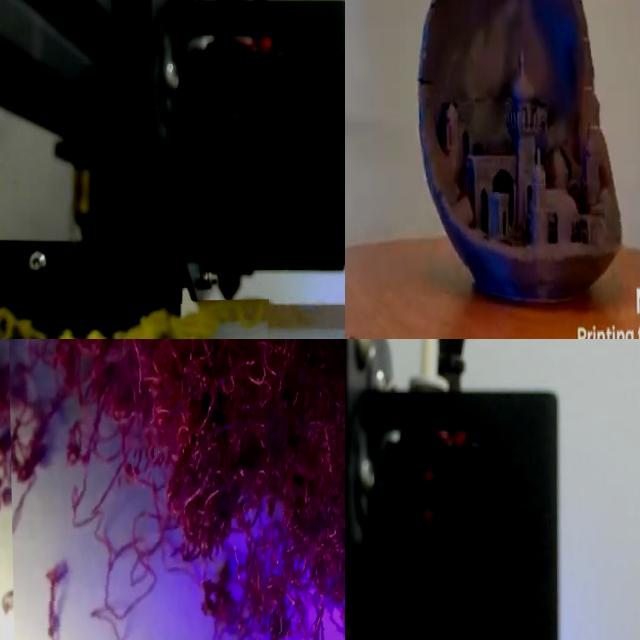spaghetti: (30, 339, 345, 640), (71, 497, 345, 640), (0, 339, 64, 522), (113, 299, 269, 339)
